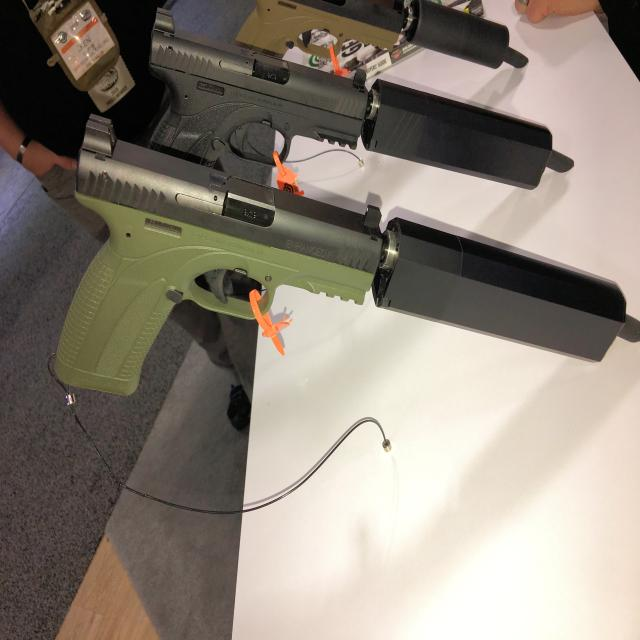Gun: (45, 109, 635, 487)
